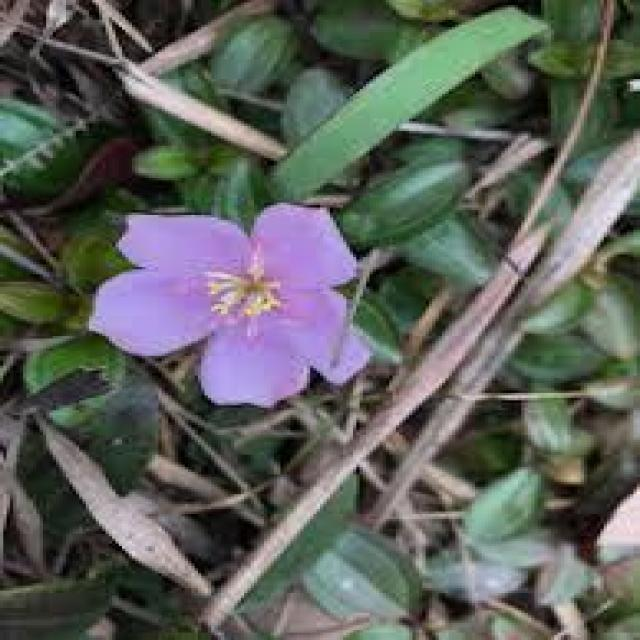organic waste: (96, 189, 386, 409)
